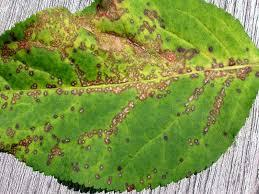Bok-Choy-Diseased: (23, 15, 225, 154)
